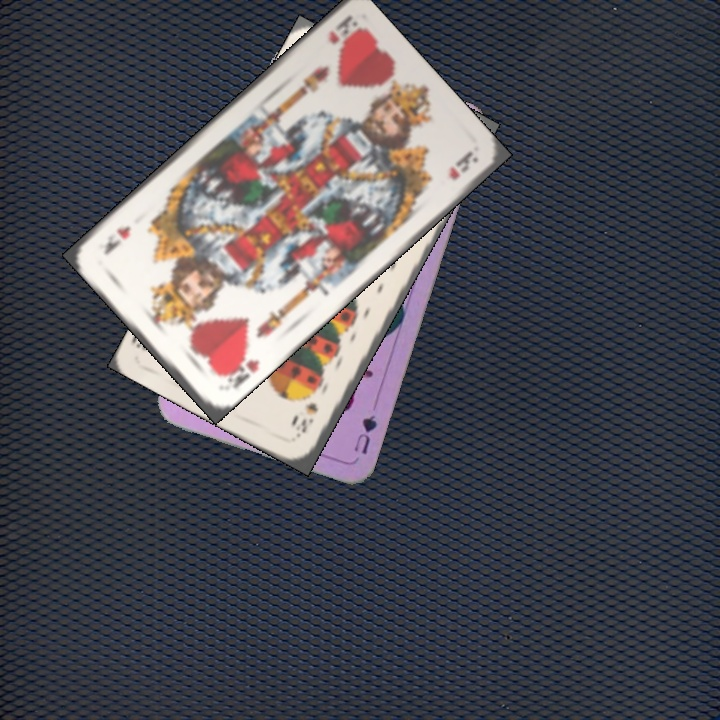GU: (350, 411, 380, 457)
HK: (215, 347, 263, 392), (324, 12, 360, 47)
S10: (292, 398, 321, 440)
